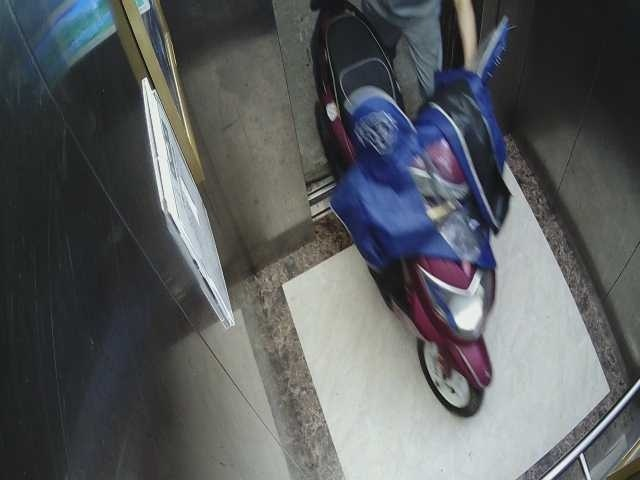emotor: (306, 9, 507, 419)
